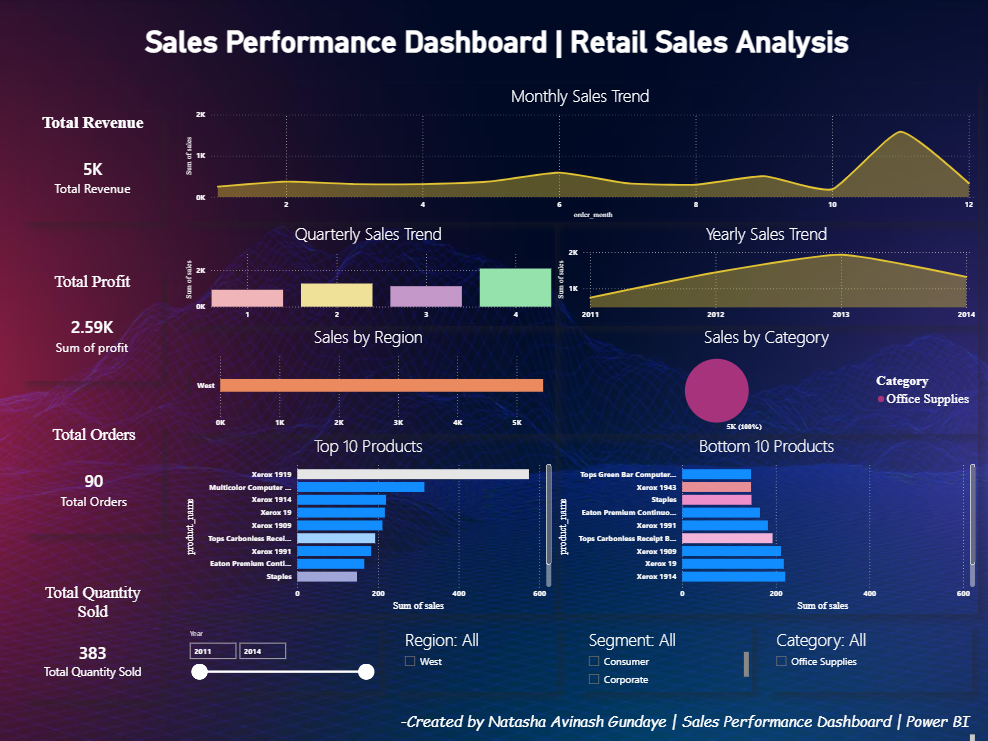

Layout of this report page (visuals, bound fields, positions):
{"tool":"powerbi","page":{"name":"Page 1","canvas":[1600,1200],"ordinal":0},"visuals":[{"type":"lineChart","title":"Monthly Sales Trend","fields":{"Category":["superstore_sample_100rows.order_month"],"Y":["Sum(superstore_sample_100rows.sales)"]},"box":[297.6,138.7,1280.8,221.2],"z":0},{"type":"clusteredColumnChart","title":"Quarterly Sales Trend","fields":{"Category":["superstore_sample_100rows.order_quarter"],"Y":["Sum(superstore_sample_100rows.sales)"]},"box":[297.6,359.9,599.2,166.9],"z":1000},{"type":"lineChart","title":"Yearly Sales Trend","fields":{"Category":["superstore_sample_100rows.order_year"],"Y":["Sum(superstore_sample_100rows.sales)"]},"box":[896.8,359.9,681.6,166.9],"z":2000},{"type":"clusteredBarChart","title":"Top 10 Products","fields":{"Y":["Sum(superstore_sample_100rows.sales)"],"Category":["superstore_sample_100rows.product_name"]},"box":[297.6,701.7,599.2,289.5],"z":3000},{"type":"clusteredBarChart","title":"Bottom 10 Products","fields":{"Y":["Sum(superstore_sample_100rows.sales)"],"Category":["superstore_sample_100rows.product_name"]},"box":[896.8,701.7,681.6,289.5],"z":4000},{"type":"clusteredBarChart","title":"Sales by Region","fields":{"Category":["superstore_sample_100rows.region"],"Y":["Sum(superstore_sample_100rows.sales)"]},"box":[297.6,526.8,599.2,174.9],"z":5000},{"type":"pieChart","title":"Sales by Category","fields":{"Category":["superstore_sample_100rows.category"],"Y":["Sum(superstore_sample_100rows.sales)"]},"box":[896.8,526.8,681.6,174.9],"z":6000},{"type":"cardVisual","title":"Total Profit","fields":{"Data":["Sum(superstore_sample_100rows.profit)"]},"box":[42.2,440.4,221.2,174.9],"z":8000},{"type":"cardVisual","title":"Total Orders","fields":{"Data":["superstore_sample_100rows.Total Orders"]},"box":[46.2,687.7,219.2,174.9],"z":9000},{"type":"cardVisual","title":"Total Revenue","fields":{"Data":["superstore_sample_100rows.Total Revenue"]},"box":[44.2,185,219.2,174.9],"z":10000},{"type":"cardVisual","title":"Total Quantity Sold","fields":{"Data":["superstore_sample_100rows.Growth Rate"]},"box":[44.2,941,219.2,189],"z":11000},{"type":"slicer","fields":{"Values":["superstore_sample_100rows.order_year"]},"box":[297.6,1009.4,317.7,106.6],"z":13000},{"type":"slicer","fields":{"Values":["superstore_sample_100rows.region"]},"box":[643.4,1009.4,257.4,106.6],"z":14000},{"type":"slicer","fields":{"Values":["superstore_sample_100rows.segment"]},"box":[939,1009.4,275.5,106.6],"z":15000},{"type":"slicer","fields":{"Values":["superstore_sample_100rows.category"]},"box":[1240.6,1009.4,327.7,106.6],"z":16000},{"type":"textbox","title":"Sales Performance Dashboard | Retail Sales Analysis","box":[100.5,42.2,1407.5,96.5],"z":17000},{"type":"textbox","title":"-Created by Natasha Avinash Gundaye | Sales Performance Dashboard | Power BI","box":[643.4,1146.1,935,54.3],"z":17001}]}

Visuals, with their boxes in screenshot pixels (x1, y1, x2, y2), scaled from the page's 1600x1200 canvas onto the 988x741 screenshot:
"Monthly Sales Trend" lineChart: bbox=[184, 86, 975, 222]
"Quarterly Sales Trend" clusteredColumnChart: bbox=[184, 222, 554, 325]
"Yearly Sales Trend" lineChart: bbox=[554, 222, 975, 325]
"Top 10 Products" clusteredBarChart: bbox=[184, 433, 554, 612]
"Bottom 10 Products" clusteredBarChart: bbox=[554, 433, 975, 612]
"Sales by Region" clusteredBarChart: bbox=[184, 325, 554, 433]
"Sales by Category" pieChart: bbox=[554, 325, 975, 433]
"Total Profit" cardVisual: bbox=[26, 272, 163, 380]
"Total Orders" cardVisual: bbox=[29, 425, 164, 533]
"Total Revenue" cardVisual: bbox=[27, 114, 163, 222]
"Total Quantity Sold" cardVisual: bbox=[27, 581, 163, 698]
slicer - superstore_sample_100rows.order_year: bbox=[184, 623, 380, 689]
slicer - superstore_sample_100rows.region: bbox=[397, 623, 556, 689]
slicer - superstore_sample_100rows.segment: bbox=[580, 623, 750, 689]
slicer - superstore_sample_100rows.category: bbox=[766, 623, 968, 689]
"Sales Performance Dashboard | Retail Sales Analysis" textbox: bbox=[62, 26, 931, 86]
"-Created by Natasha Avinash Gundaye | Sales Performance Dashboard | Power BI" textbox: bbox=[397, 708, 975, 740]
